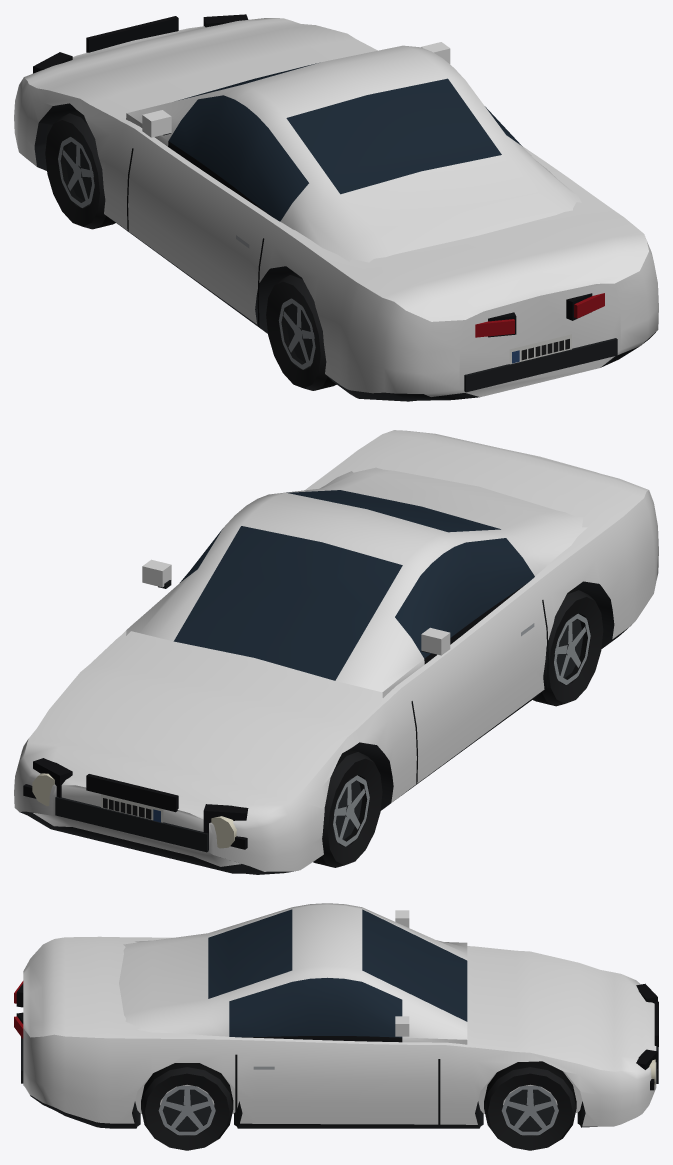
Rendered from sport_drive.glb.
3 views of the same model, one above another, from view 1: azimuth 30°, elevation 25°; view 2: azimuth 150°, elevation 25°; view 3: azimuth 270°, elevation 25° (orthographic). The views are drawn at different scales.
Visible parts, largest first — view 1: sport, wheel_fl, wheel_rl, tail; view 2: sport, wheel_fl, wheel_rl, head; view 3: sport, wheel_fr, wheel_rr.
Boxes of the visible parts, x1,y1,x2,y2 form: sport: [14, 14, 658, 401]; wheel_fl: [45, 111, 115, 229]; wheel_rl: [266, 273, 336, 390]; tail: [475, 293, 604, 337]; sport: [14, 430, 658, 874]; wheel_fl: [313, 749, 382, 867]; wheel_rl: [533, 589, 603, 706]; head: [32, 773, 236, 848]; sport: [16, 903, 658, 1128]; wheel_fr: [484, 1061, 576, 1150]; wheel_rr: [141, 1063, 233, 1150].
Size of the model in its own units: 1.92 by 1.32 by 4.61.
